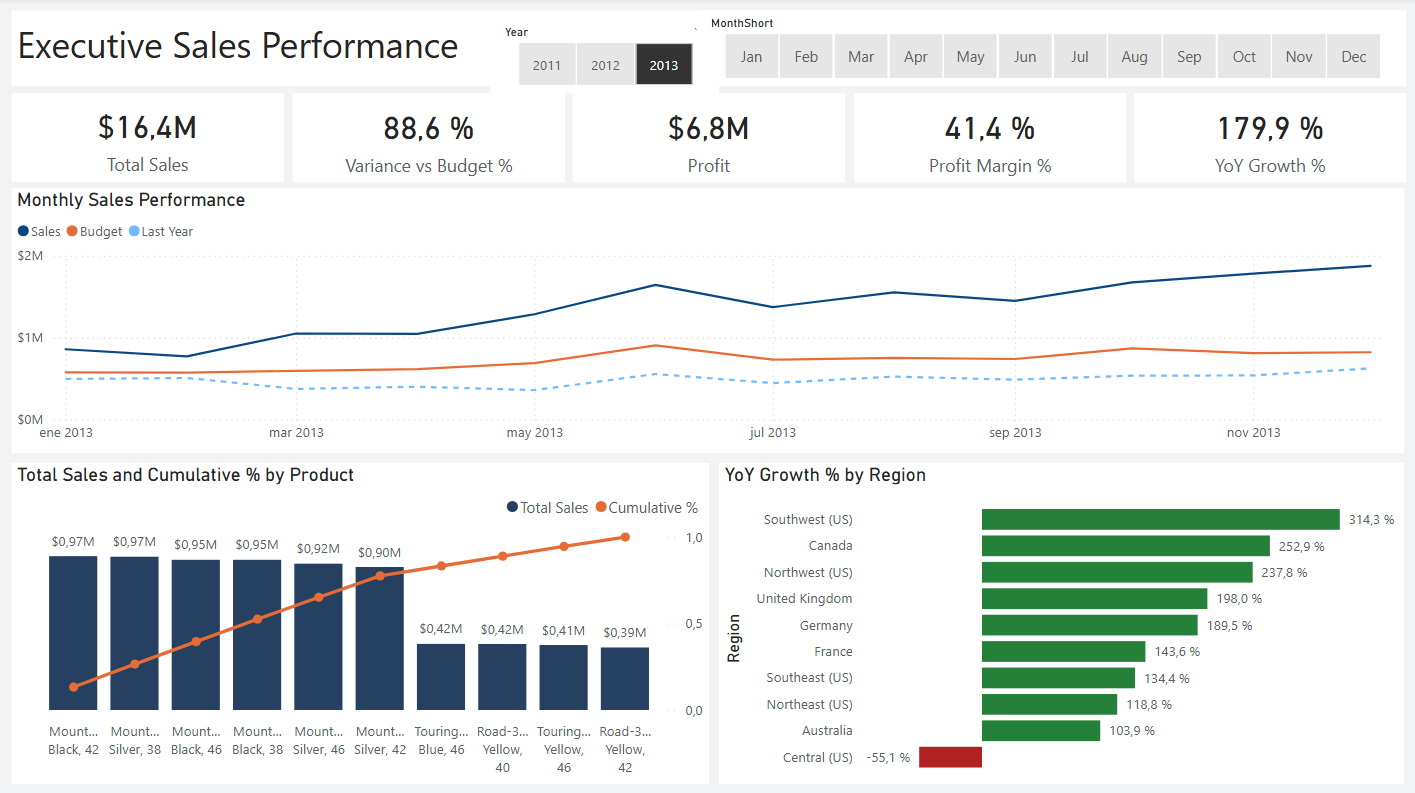

This screenshot's page, from the dashboard's own definition file:
{"tool":"powerbi","page":{"name":"Executive_Sales_Performance","canvas":[1280,720],"ordinal":0},"visuals":[{"type":"textbox","box":[11.3,11.3,1255.6,67.6],"z":0},{"type":"card","fields":{"Values":["FACT_InternetSales.Total Sales"]},"box":[11.3,85.7,245.7,80],"z":1000},{"type":"card","fields":{"Values":["FACT_InternetSales.Variance vs Budget %"]},"box":[264.3,85.7,245.7,81.2],"z":2000},{"type":"card","fields":{"Values":["FACT_InternetSales.Profit Margin %"]},"box":[770.4,85.7,245.7,81.2],"z":3000},{"type":"card","fields":{"Values":["FACT_InternetSales.YoY Growth %"]},"box":[1023.4,85.7,245.7,81.2],"z":4000},{"type":"card","fields":{"Values":["FACT_InternetSales.Profit"]},"box":[517.3,85.7,245.7,81.2],"z":5000},{"type":"lineChart","title":"Monthly Sales Performance","fields":{"Category":["DIM_Calendar.YearMonth"],"Y":["Key Measures.Total Sales","Key Measures.Budget Amount","FACT_InternetSales.Sales LY"]},"box":[11.3,171.3,1255.6,238.9],"z":6000},{"type":"clusteredBarChart","fields":{"Category":["DIM_SalesTerritory.Region Label"],"Y":["Key Measures.YoY Growth %"]},"box":[649.2,419.3,617.7,289.7],"z":7000},{"type":"lineClusteredColumnComboChart","title":"Total Sales and Cumulative % by Product","fields":{"Y":["Key Measures.Total Sales"],"Category":["DIM_Products.ProductName"],"Y2":["Key Measures.Cumulative %"]},"box":[11.3,419.3,628.9,289.7],"z":8000},{"type":"slicer","fields":{"Values":["DIM_Calendar.Year"]},"box":[443.4,18.8,206,66.6],"z":9000},{"type":"slicer","fields":{"Values":["DIM_Calendar.MonthShort"]},"box":[628.9,11.3,640.2,67.6],"z":10000}]}

Visuals, with their boxes in screenshot pixels (x1, y1, x2, y2), scaled from the page's 1280x720 canvas onto the 1415x793 screenshot:
textbox: [12, 12, 1401, 87]
card - FACT_InternetSales.Total Sales: [12, 94, 284, 183]
card - FACT_InternetSales.Variance vs Budget %: [292, 94, 564, 184]
card - FACT_InternetSales.Profit Margin %: [852, 94, 1123, 184]
card - FACT_InternetSales.YoY Growth %: [1131, 94, 1403, 184]
card - FACT_InternetSales.Profit: [572, 94, 843, 184]
"Monthly Sales Performance" lineChart: [12, 189, 1401, 452]
clusteredBarChart - DIM_SalesTerritory.Region Label x Key Measures.YoY Growth %: [718, 462, 1401, 781]
"Total Sales and Cumulative % by Product" lineClusteredColumnComboChart: [12, 462, 708, 781]
slicer - DIM_Calendar.Year: [490, 21, 718, 94]
slicer - DIM_Calendar.MonthShort: [695, 12, 1403, 87]
